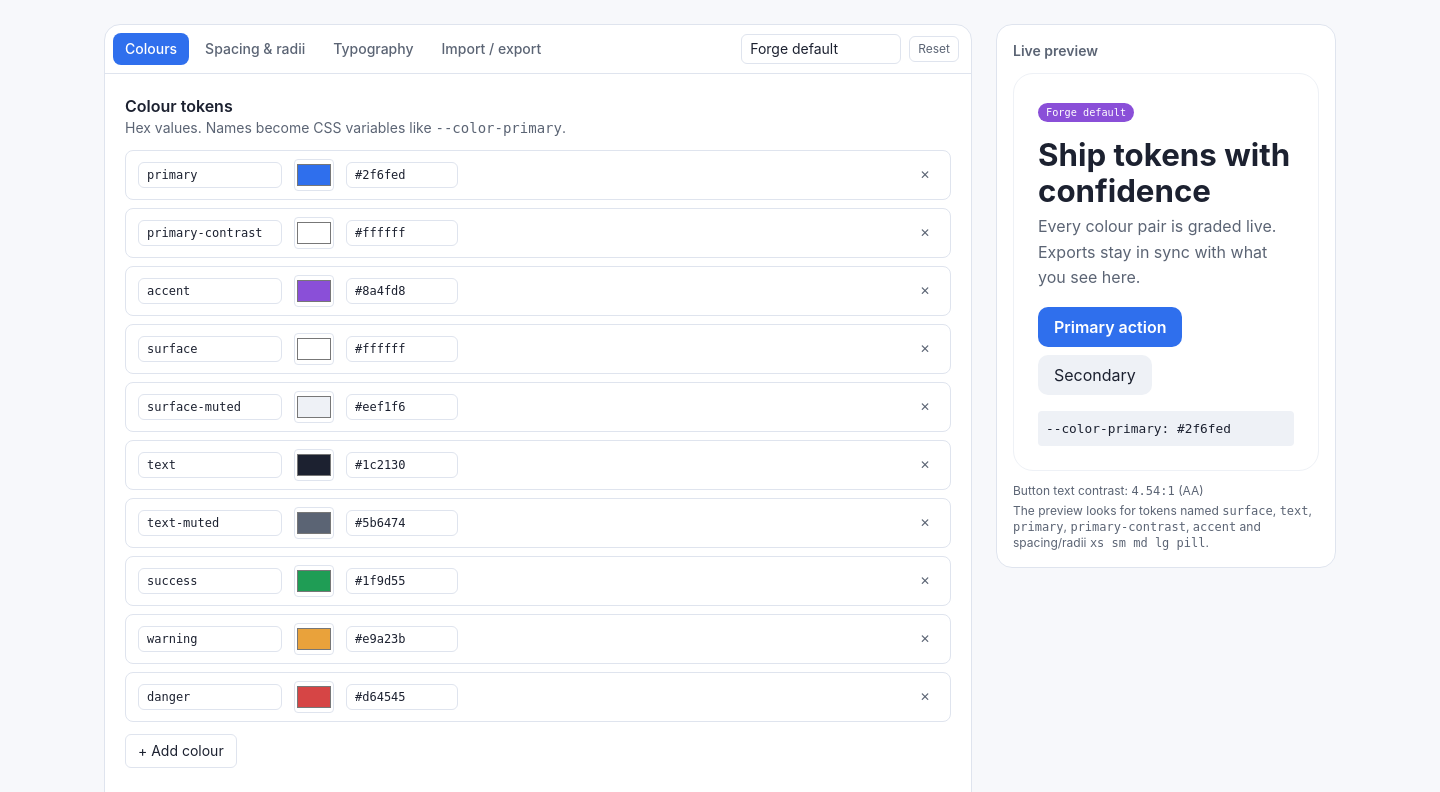
Scenario: <Studio /> › shows the type scale for the chosen ratio
This screenshot has width=1440, height=792.
Click the tab "Typography" at (373, 49), box [321, 33, 426, 65]
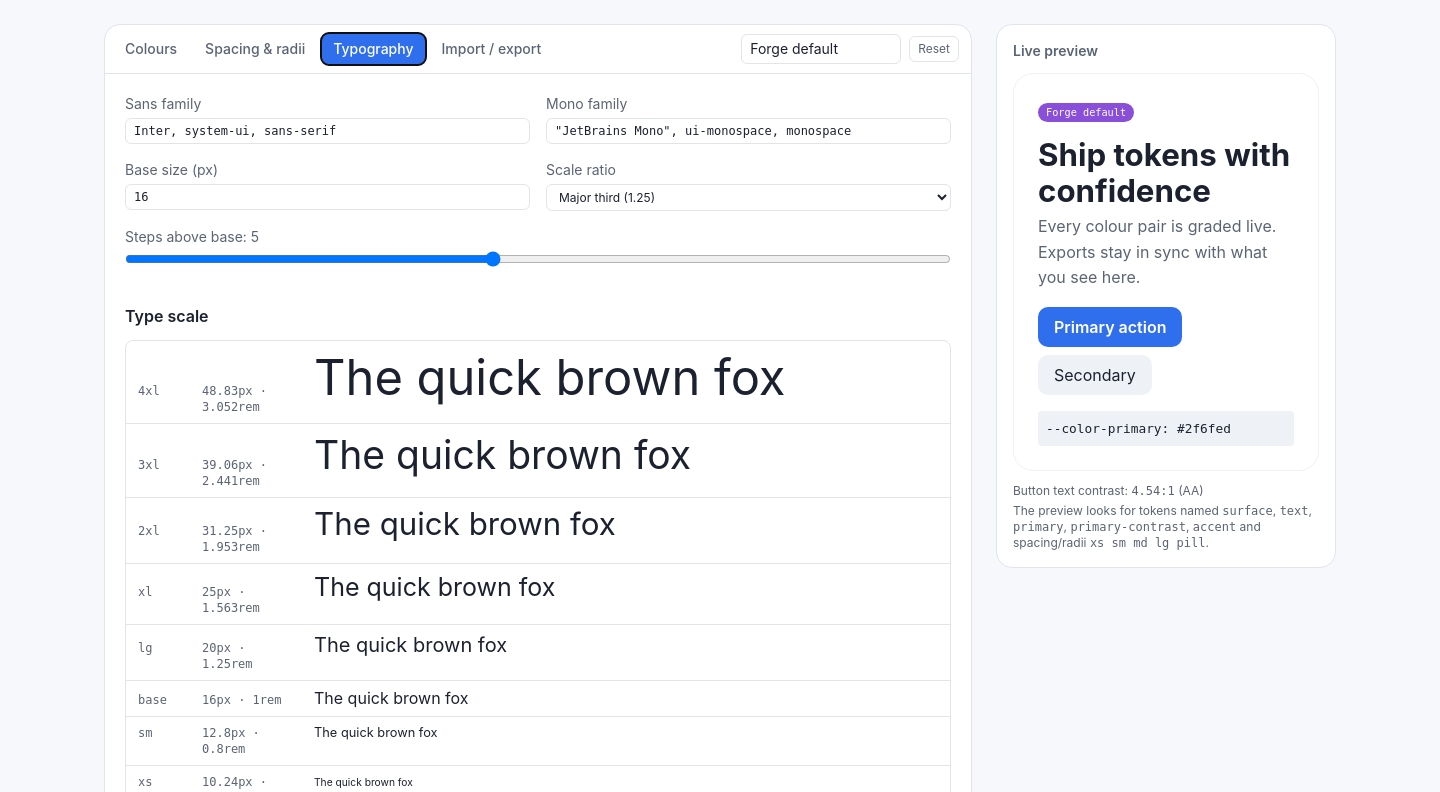
Now the text "25px · 1.563rem" is shown, box [202, 585, 260, 615]
